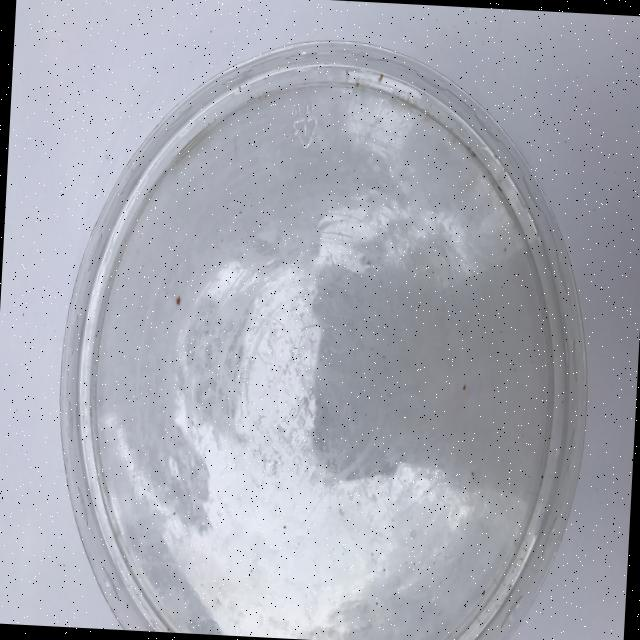plastic: (47, 26, 606, 640)
